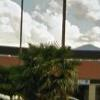Tree: (15, 35, 72, 98)
